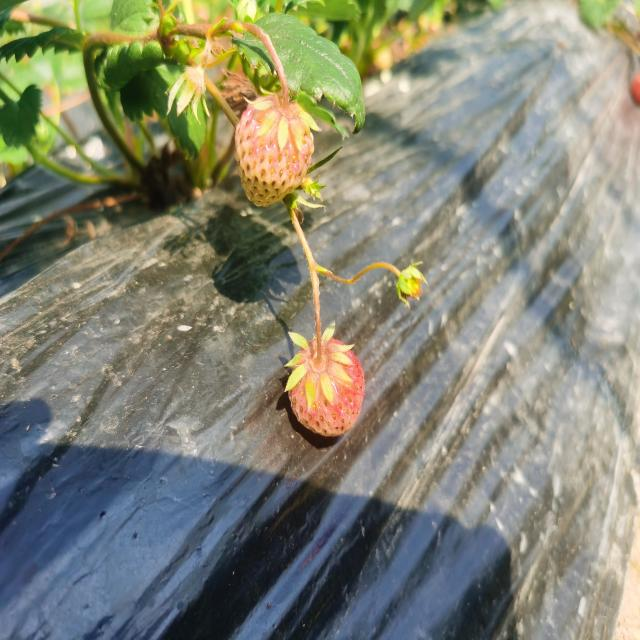stem: (265, 40, 291, 111), (314, 294, 325, 368)
strawberry: (234, 94, 313, 205), (288, 336, 365, 435)
